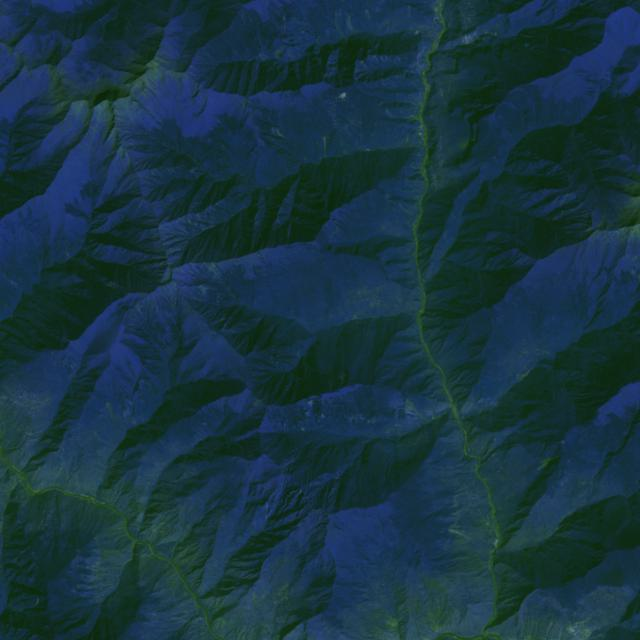landslides: (206, 262, 235, 298), (106, 402, 125, 431), (405, 400, 427, 424), (448, 529, 477, 546), (119, 404, 139, 425), (385, 109, 418, 121), (538, 456, 558, 471), (346, 13, 358, 36), (495, 493, 515, 506), (135, 302, 148, 322), (340, 138, 350, 156), (202, 422, 212, 435), (445, 230, 453, 245), (365, 9, 372, 26), (349, 111, 356, 127), (501, 131, 511, 141)
